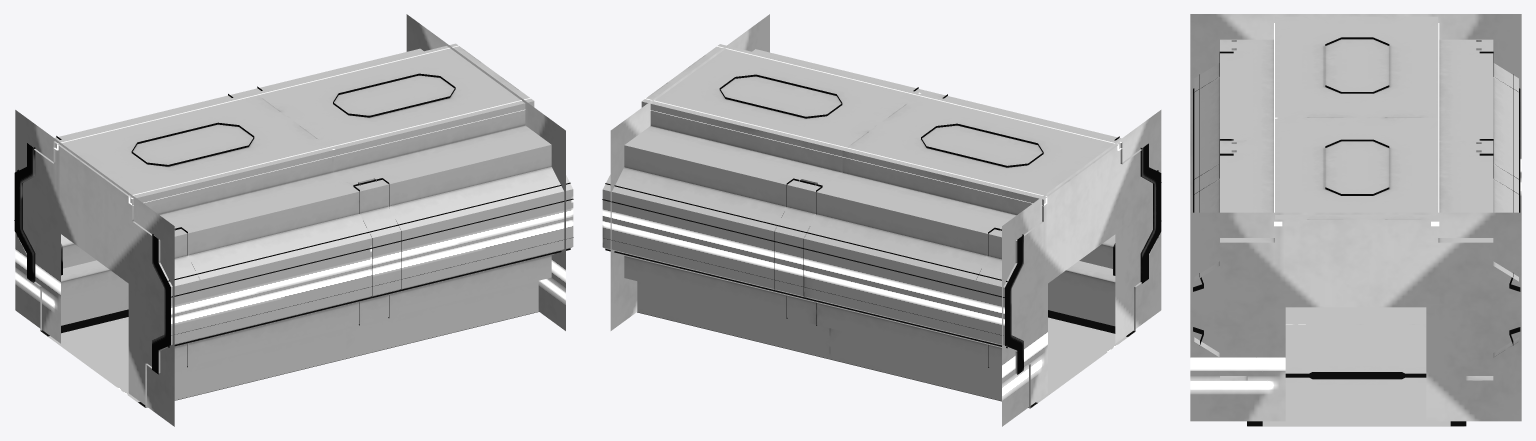
File: Conexiones02.fbx
The picture shows the model from 3 angles, left to right: view 1: azimuth 30°, elevation 25°; view 2: azimuth 150°, elevation 25°; view 3: azimuth 270°, elevation 25°; orthographic projection. The views are drawn at different scales.
Parts seen in each view (by area): view 1: Conexiones02; view 2: Conexiones02; view 3: Conexiones02.
Part boxes in pixels (x1=…): Conexiones02: x1=14, y1=14, x2=573, y2=426; Conexiones02: x1=602, y1=14, x2=1161, y2=426; Conexiones02: x1=1190, y1=14, x2=1521, y2=426.
Size of the model in its own units: 880 by 422 by 604.
